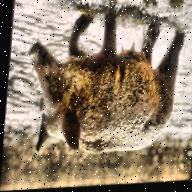boar: (17, 7, 192, 174)
